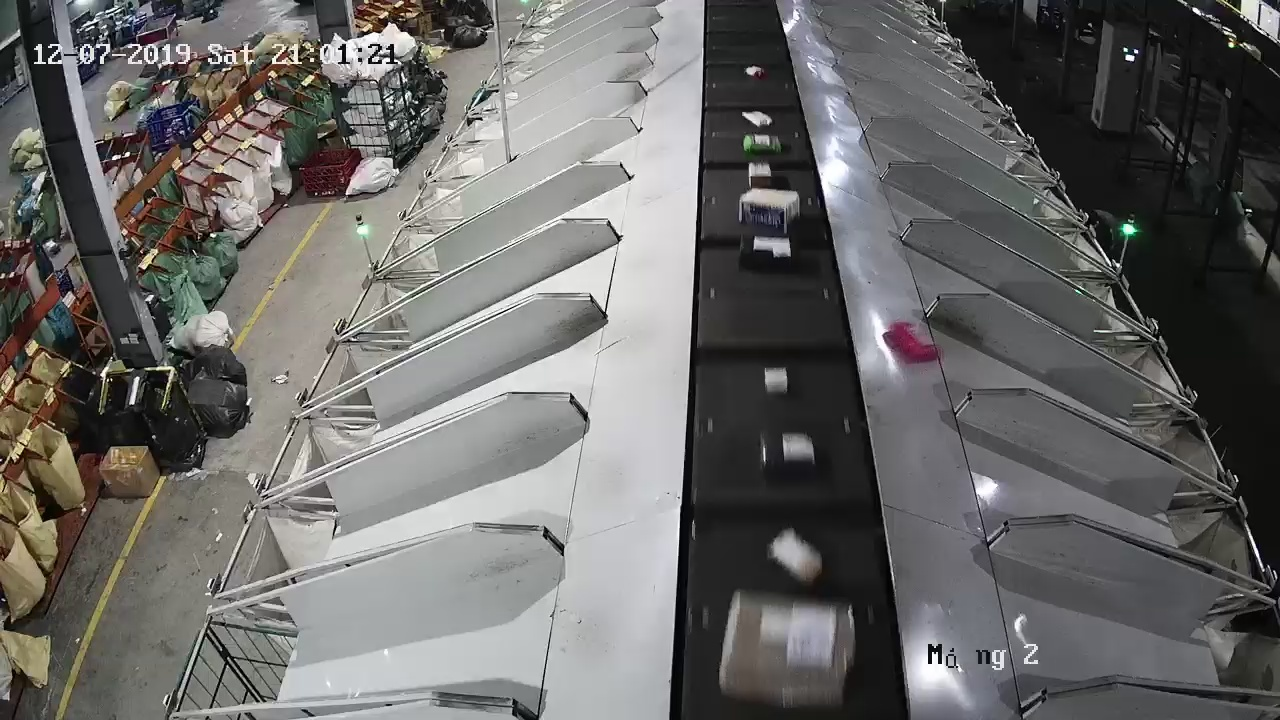parcel: (887, 320, 939, 363)
